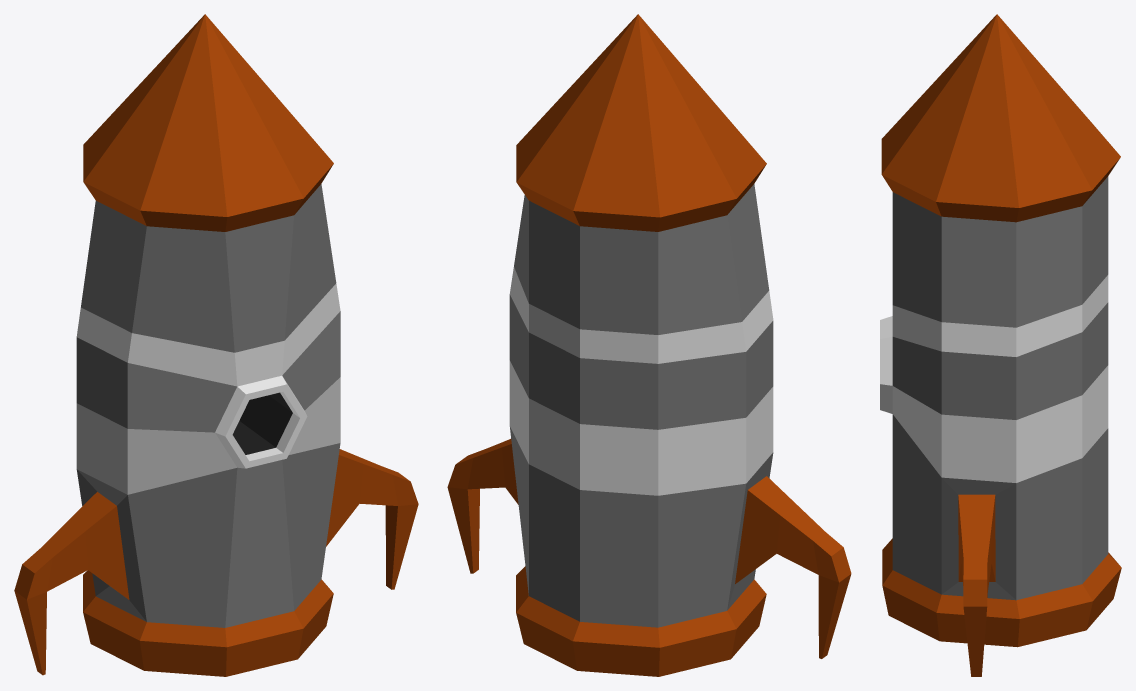
File: Rocket.fbx
3 renders of one model, left to right at view 1: azimuth 30°, elevation 25°; view 2: azimuth 150°, elevation 25°; view 3: azimuth 270°, elevation 25°, orthographic. The views are drawn at different scales.
Visible parts, largest first — view 1: Cylinder; view 2: Cylinder; view 3: Cylinder.
Part boxes in pixels (x1,y1,x2,y2): Cylinder: [14, 14, 418, 676]; Cylinder: [447, 14, 851, 676]; Cylinder: [880, 14, 1121, 676].
Size of the model in its own units: 389 by 610 by 218.
